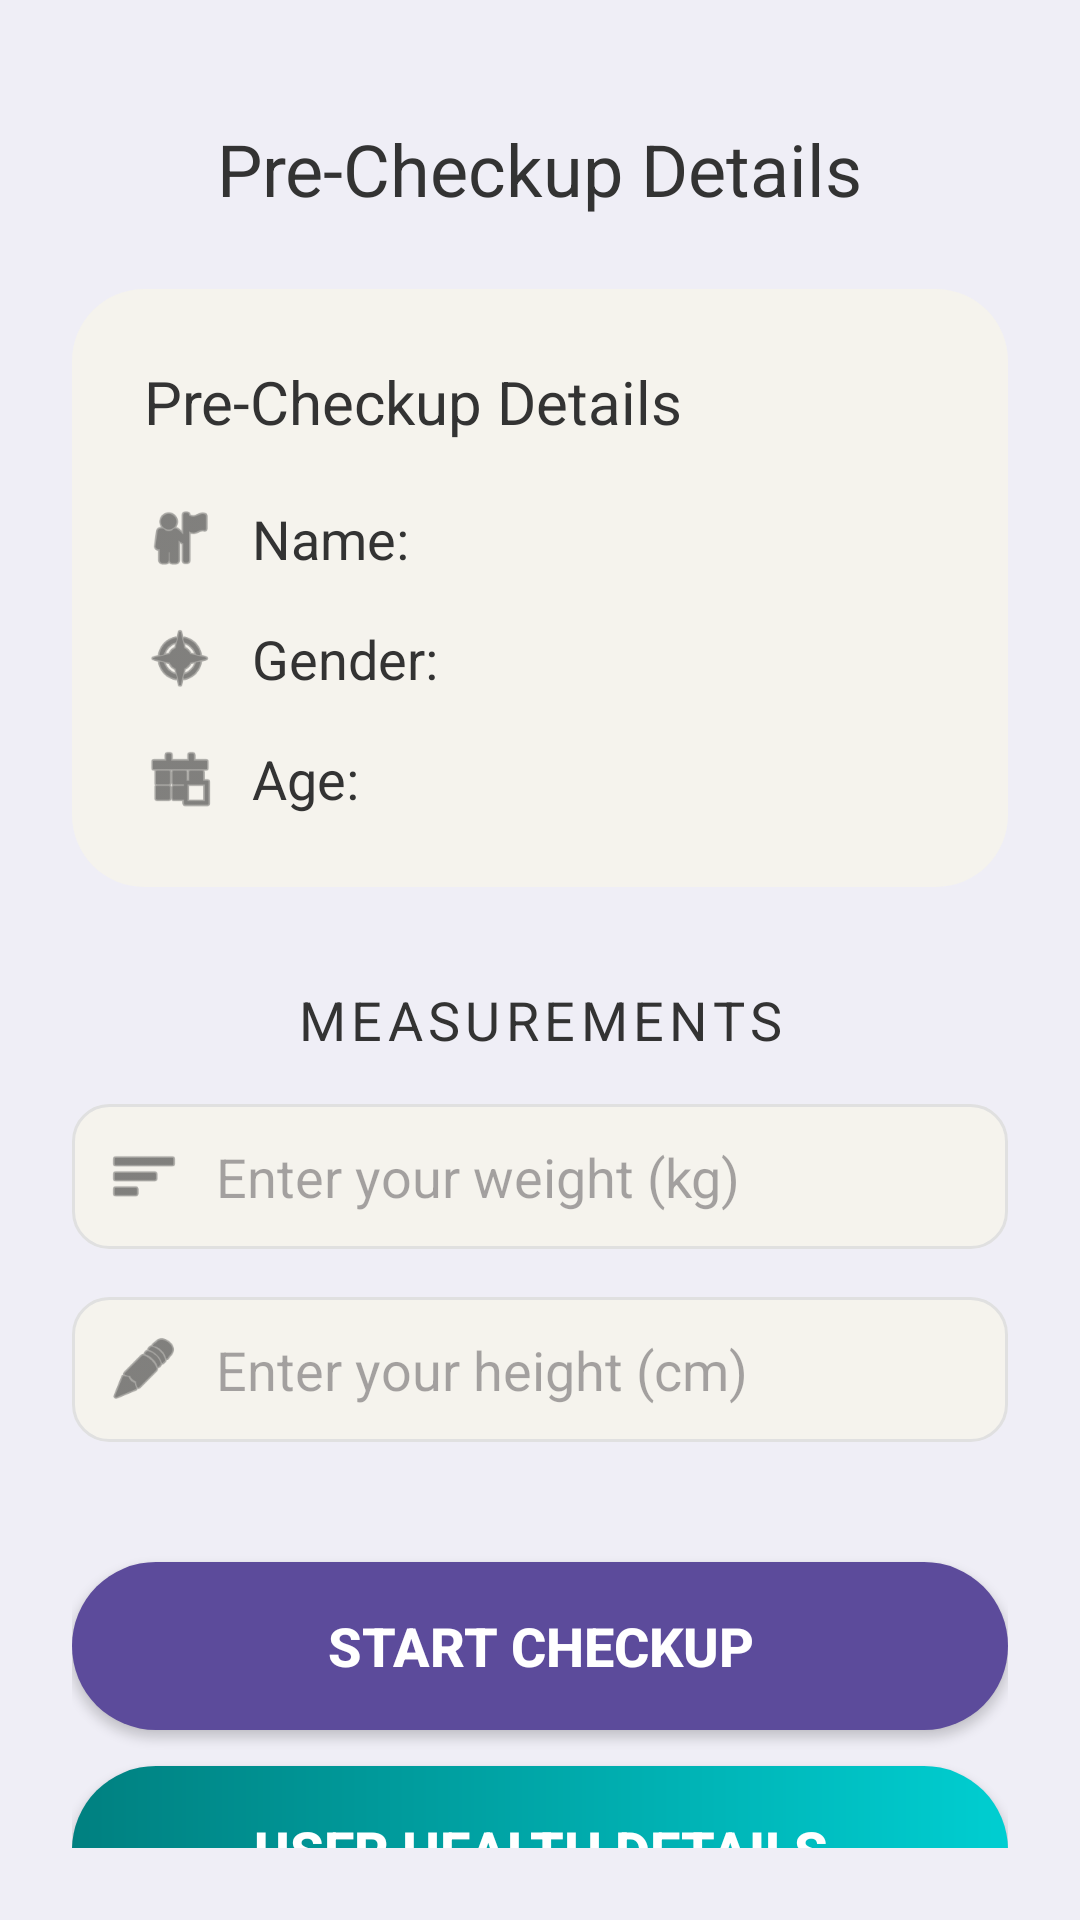

Point at icon controls on the screen. Image size 1080w x 1920h, points as (x=x, y=y).
edit: (x=143, y=1368)
sort by size: (x=144, y=1176)
today: (x=180, y=779)
